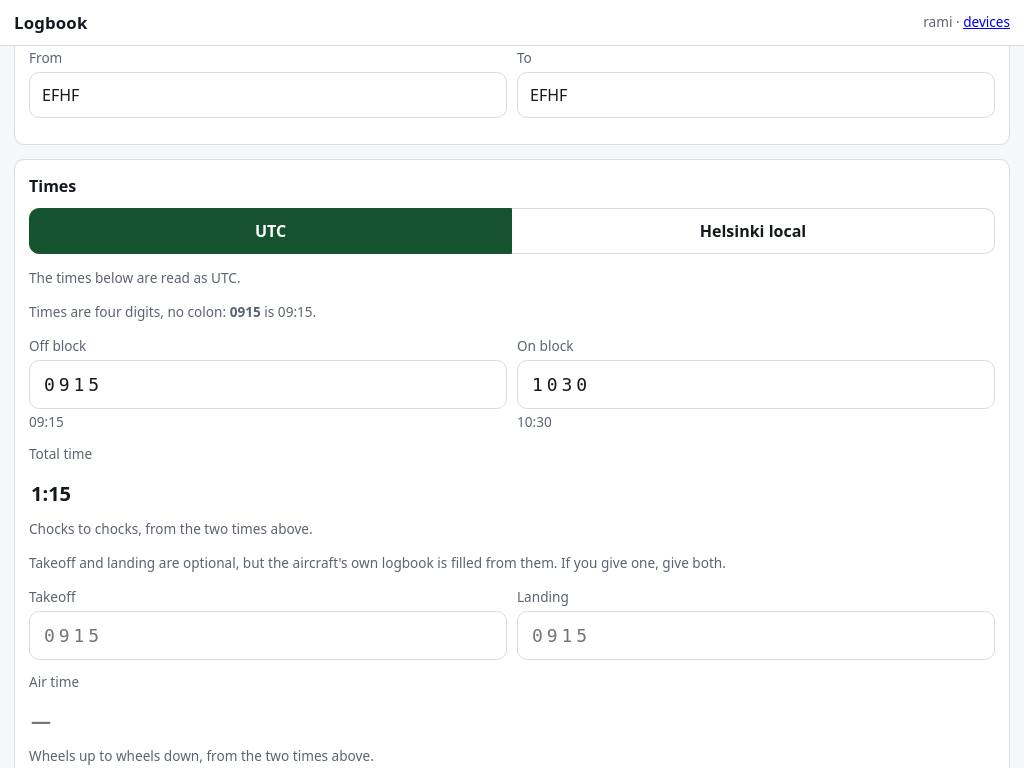
Test: editing a flight › sends the correction with the same wire format as a new flight
(page scrolled)
Replace the text in the field labelled "On block" with "1045". click: (756, 384)
box: [517, 360, 995, 409]
(page scrolled)
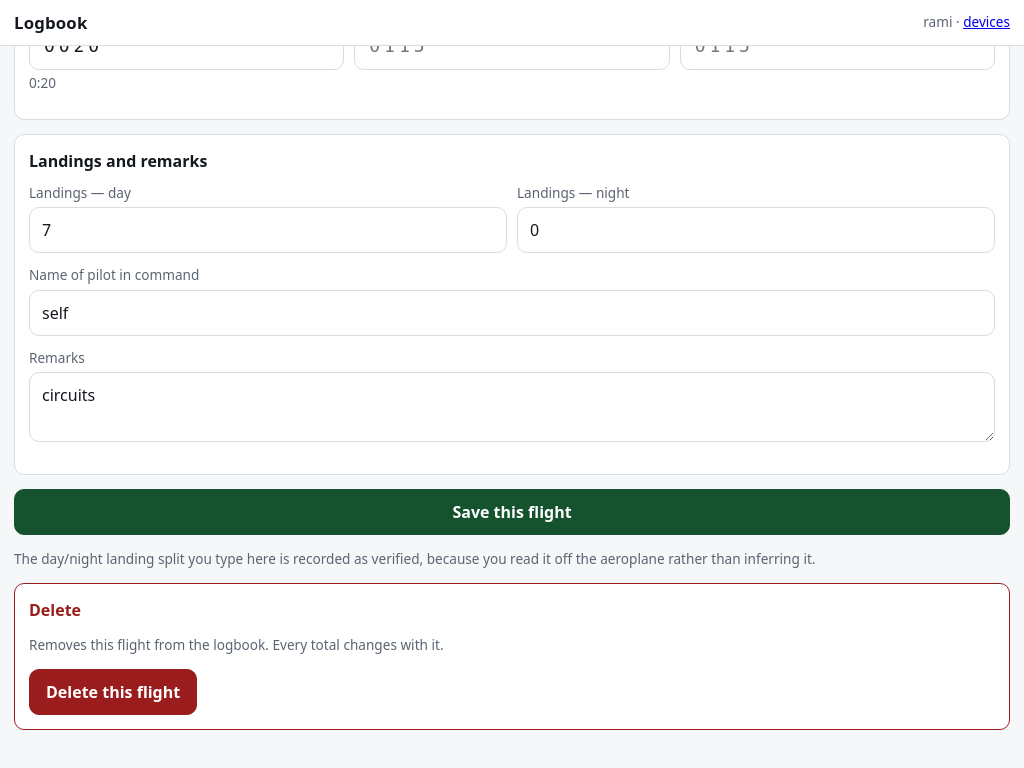
Click the button "Save this flight". click: (512, 512)
box: [14, 489, 1010, 535]
(page scrolled)
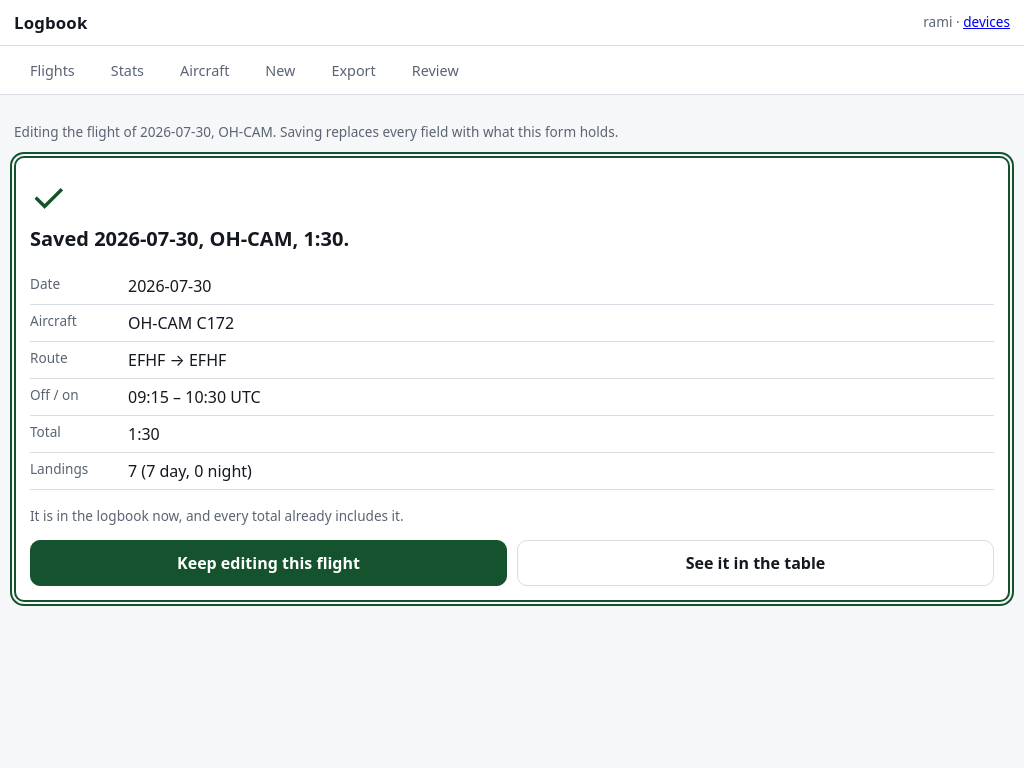
Result: the message shows "Saved" at [30, 225, 349, 252]
